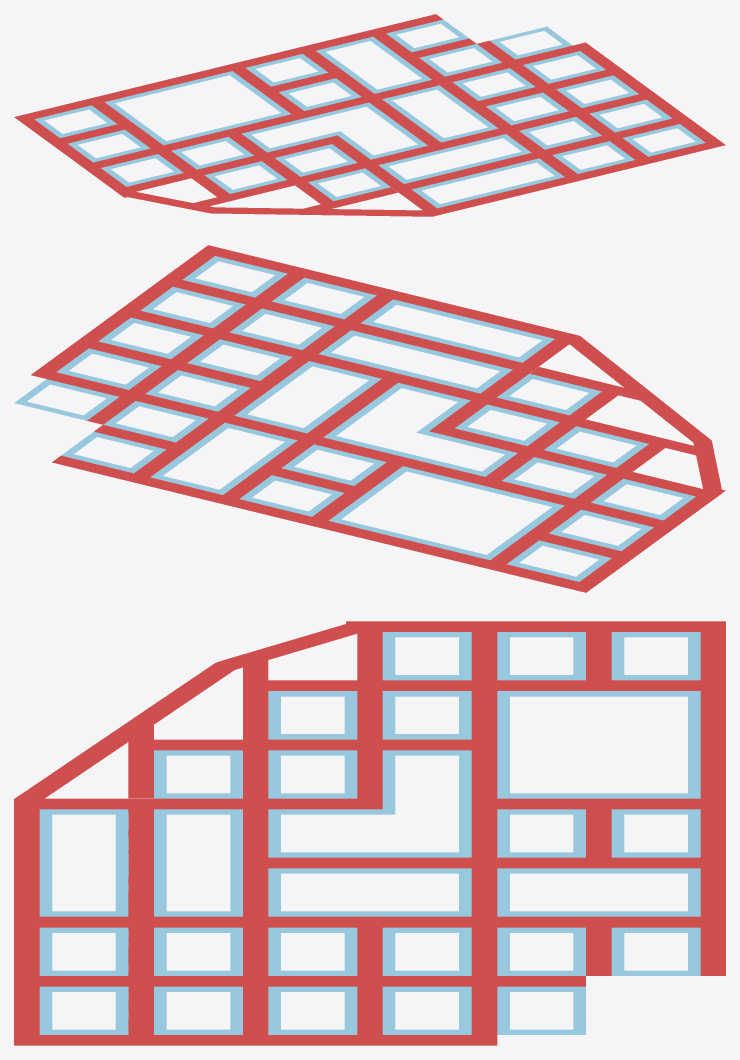
File: CallesMax.FBX
The picture shows the model from 3 angles, top to bottom: view 1: azimuth 30°, elevation 25°; view 2: azimuth 150°, elevation 25°; view 3: azimuth 270°, elevation 25°; orthographic projection. The views are drawn at different scales.
Parts seen in each view (by area): view 1: Plane__97_, Plane__115_, Plane__79_, Plane__57_, Plane__82_, Plane__83_, Plane__91_, Plane__84_, Plane__98_, Plane__128_, Plane__152_, Plane__175_ (+74 smaller); view 2: Plane__97_, Plane__115_, Plane__79_, Plane__82_, Plane__83_, Plane__91_, Plane__84_, Plane__57_, Plane__98_, Plane__68_, Plane__152_, Plane__89_ (+45 smaller); view 3: Plane__97_, Plane__115_, Plane__79_, Plane__84_, Plane__57_, Plane__82_, Plane__83_, Plane__91_, Plane__98_, Plane__211_, Plane__223_, Plane__235_ (+90 smaller).
Boxes of the visible parts, x1,y1,x2,y2 form: Plane__97_: (211, 207, 432, 216); Plane__115_: (186, 180, 295, 209); Plane__79_: (302, 187, 397, 214); Plane__57_: (602, 115, 692, 140); Plane__82_: (569, 91, 659, 116); Plane__83_: (536, 67, 625, 92); Plane__91_: (636, 140, 725, 165); Plane__84_: (503, 42, 592, 67); Plane__98_: (125, 191, 216, 213); Plane__128_: (428, 128, 505, 150); Plane__152_: (465, 87, 542, 109); Plane__175_: (255, 138, 331, 160); Plane__97_: (564, 336, 711, 443); Plane__115_: (576, 419, 712, 457); Plane__79_: (530, 367, 651, 401); Plane__82_: (115, 306, 228, 338); Plane__83_: (73, 337, 186, 369); Plane__91_: (199, 245, 312, 277); Plane__84_: (31, 368, 144, 400); Plane__57_: (157, 276, 270, 308); Plane__98_: (693, 440, 721, 492); Plane__68_: (440, 345, 538, 373); Plane__152_: (178, 363, 275, 391); Plane__89_: (393, 292, 491, 320); Plane__97_: (15, 662, 236, 804); Plane__115_: (243, 654, 268, 739); Plane__79_: (128, 723, 153, 798); Plane__84_: (471, 976, 497, 1045); Plane__57_: (128, 976, 153, 1045); Plane__82_: (243, 976, 268, 1045); Plane__83_: (357, 976, 382, 1045); Plane__91_: (14, 976, 39, 1045); Plane__98_: (217, 623, 364, 670); Plane__211_: (471, 680, 497, 739); Plane__223_: (471, 798, 497, 857); Plane__235_: (471, 916, 497, 975).
Bounding box in the file's own units: 79.01 × 3.65e-15 × 56.01.
